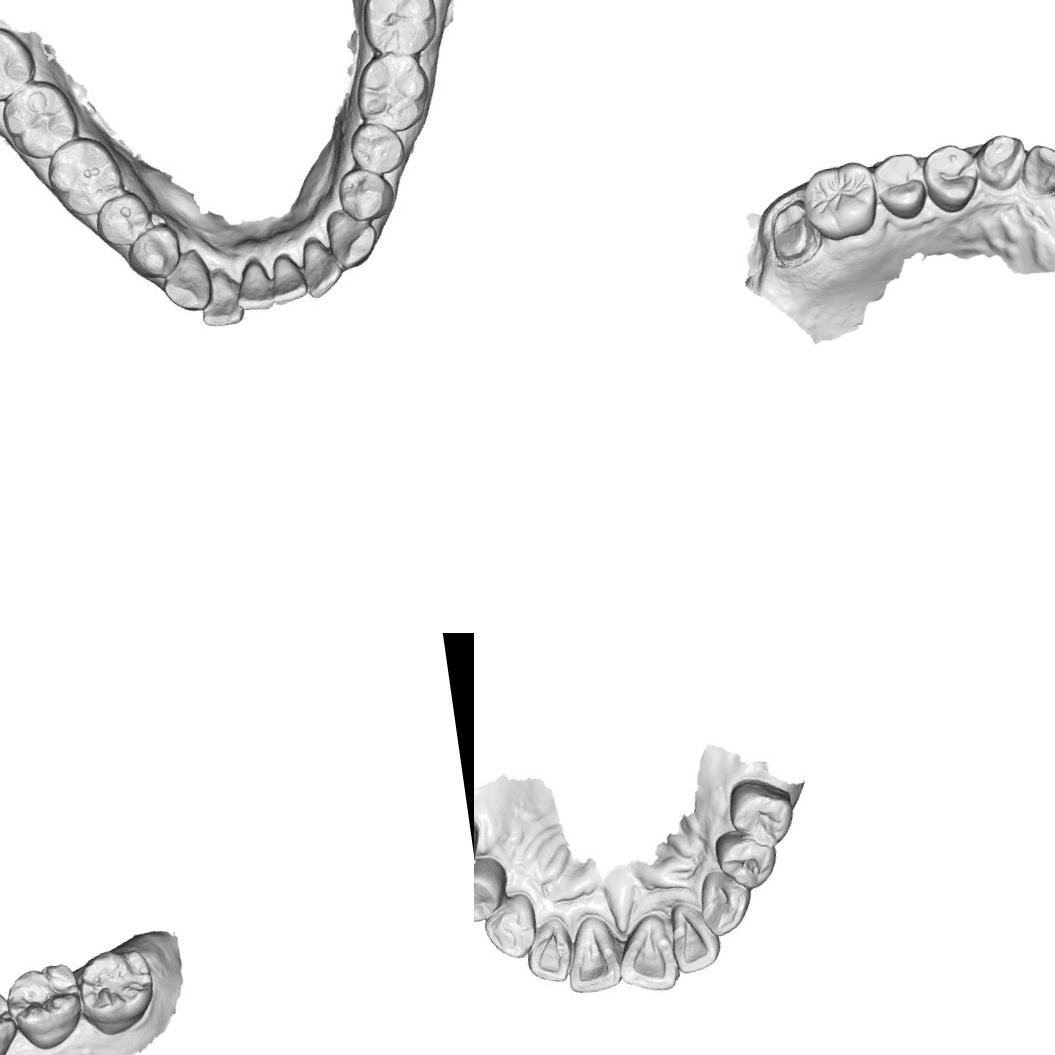canine: (478, 890, 542, 963), (696, 866, 757, 939), (970, 131, 1031, 196), (324, 204, 380, 272), (125, 222, 184, 283)
crown: (764, 196, 824, 270)
incisor: (610, 908, 684, 998), (558, 910, 624, 999), (665, 897, 725, 976), (520, 916, 578, 987), (158, 246, 215, 316), (196, 266, 246, 329), (298, 235, 346, 300), (231, 259, 275, 314), (1016, 139, 1055, 201), (267, 252, 309, 306)
molar: (1, 958, 92, 1054), (72, 943, 161, 1039), (43, 131, 128, 222), (351, 47, 436, 137), (0, 74, 83, 163), (798, 158, 883, 244), (355, 0, 441, 62), (0, 22, 40, 107)
premolar: (722, 771, 800, 854), (918, 140, 984, 218), (712, 824, 782, 896), (868, 148, 932, 224), (335, 163, 398, 225), (346, 116, 408, 178), (92, 188, 154, 250), (474, 853, 513, 926), (0, 980, 25, 1055), (474, 817, 492, 891)
